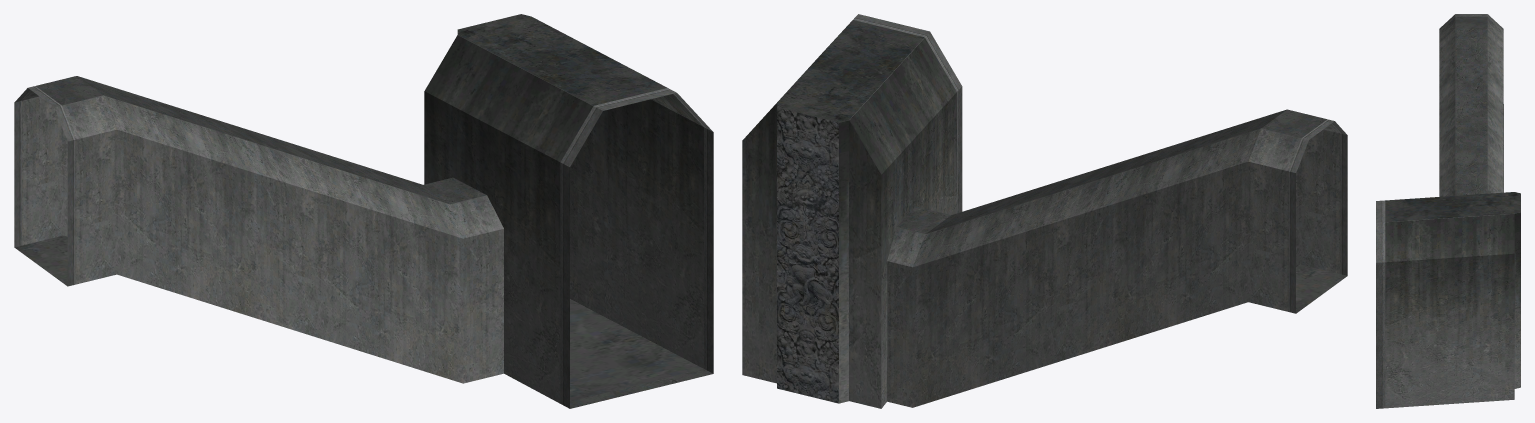
Rendered from thm_yavn_jedi_enclave_dark_r14_hallwaya4_mesh.fbx.
3 views of the same model, side by side, from view 1: azimuth 30°, elevation 25°; view 2: azimuth 150°, elevation 25°; view 3: azimuth 270°, elevation 25° (orthographic). The views are drawn at different scales.
Parts seen in each view (by area): view 1: mesh_node; view 2: mesh_node; view 3: mesh_node.
Boxes of the visible parts, <box> form: mesh_node: <box>14,14,713,408</box>; mesh_node: <box>742,14,1347,408</box>; mesh_node: <box>1376,14,1520,408</box>.
Size of the model in its own units: 12.86 by 7.52 by 4.49.
